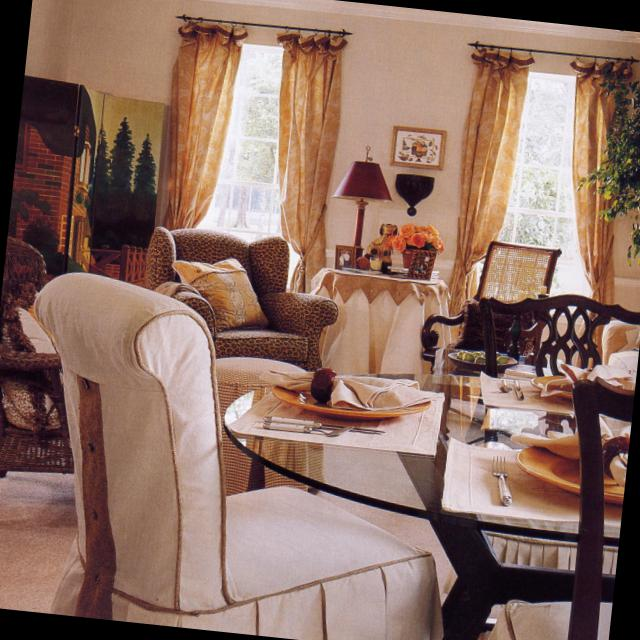chair -occluded-: (29, 271, 438, 640), (142, 224, 338, 371)
fork: (489, 453, 509, 507)
picture crop: (388, 125, 445, 167)
spoon occluded: (259, 422, 353, 437)
table leg: (331, 160, 392, 263)
